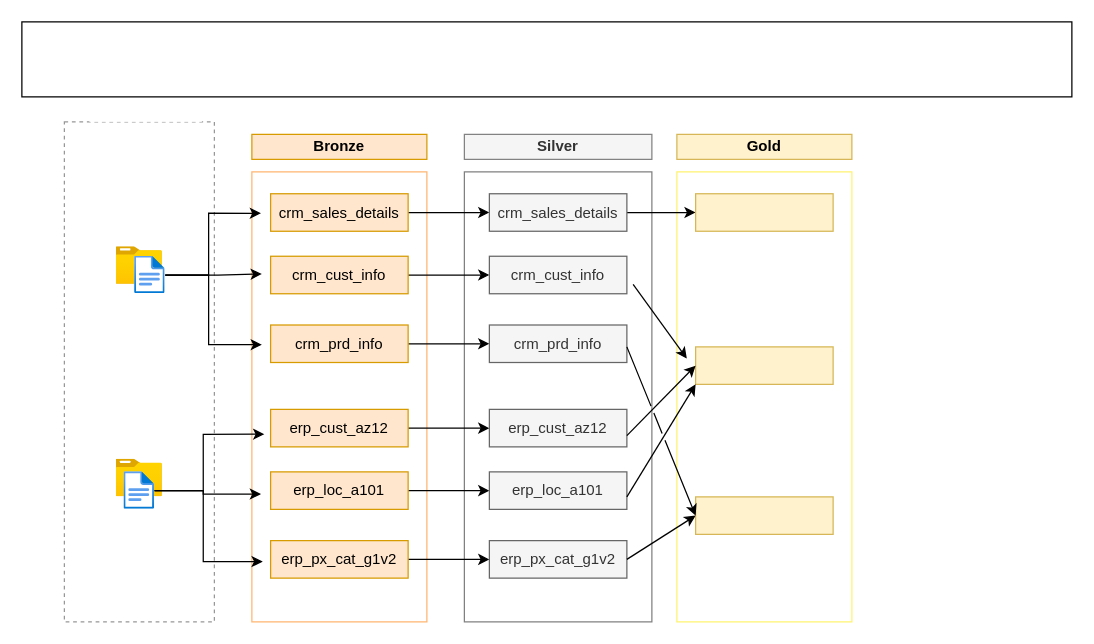
Some shapes in this 1094 by 644 pixel diagram are drawn without their labels. The centre of each missing label's shape, as x and y in pixels:
CRM: point (149, 274)
Data Flow (Data Lineage): point (546, 59)
dim_customers: point (763, 365)
dim_products: point (763, 515)
ERP: point (139, 490)
fact_sales: point (763, 211)
Sources: point (145, 108)
